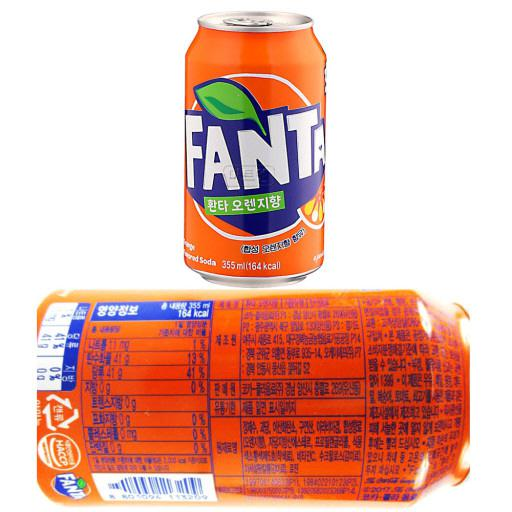fanta_orange: (153, 9, 356, 286)
